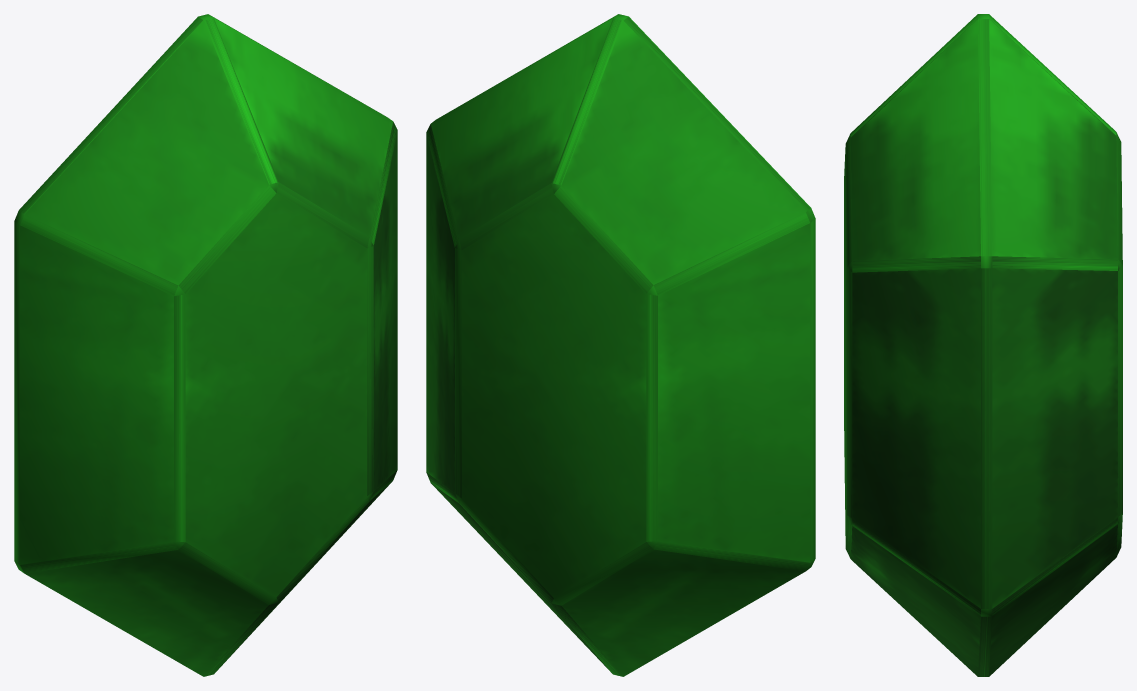
3 renders of one model, left to right at view 1: azimuth 30°, elevation 25°; view 2: azimuth 150°, elevation 25°; view 3: azimuth 270°, elevation 25°, orthographic.
Parts seen in each view (by area): view 1: rupee_reference.008; view 2: rupee_reference.008; view 3: rupee_reference.008.
Boxes of the visible parts, x1,y1,x2,y2 form: rupee_reference.008: (14,14,397,676); rupee_reference.008: (426,14,815,676); rupee_reference.008: (844,14,1122,676).
Bounding box in the file's own units: 0.1234 × 0.2031 × 0.078.
